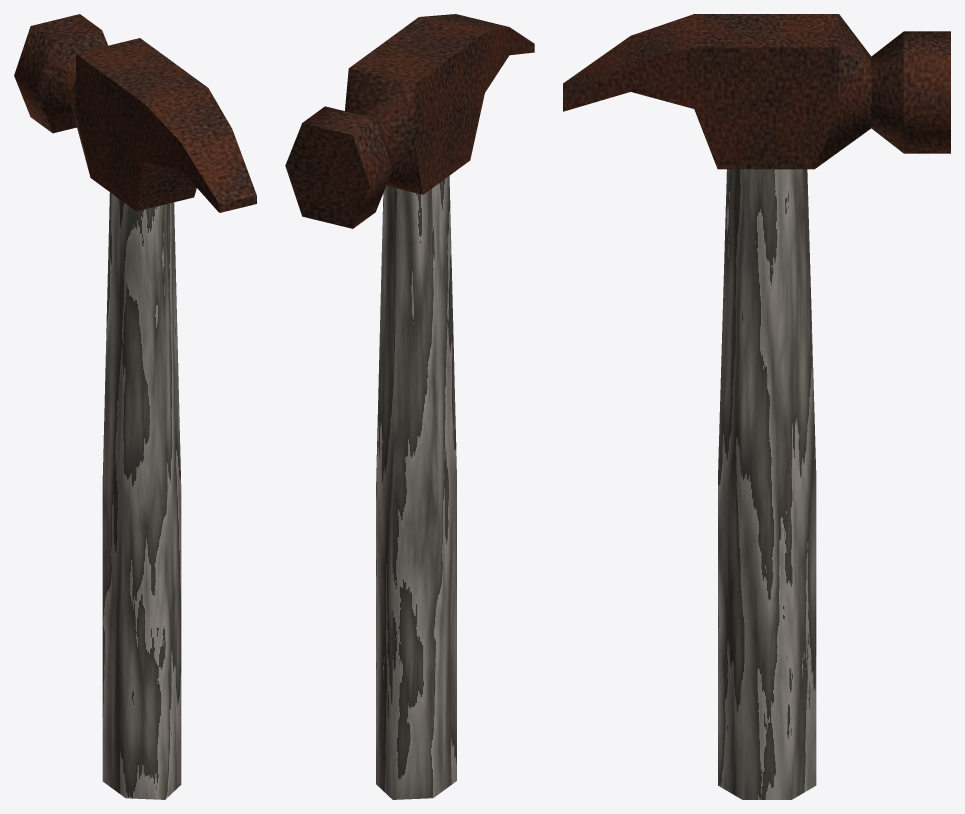
The model's file is hammer.obj.
The picture shows the model from 3 angles, left to right: view 1: azimuth 30°, elevation 25°; view 2: azimuth 150°, elevation 25°; view 3: azimuth 270°, elevation 25°; orthographic projection. The views are drawn at different scales.
Parts seen in each view (by area): view 1: ClawHammer_Cylinder; view 2: ClawHammer_Cylinder; view 3: ClawHammer_Cylinder.
Part boxes in pixels (box(x1,y1,x2,y2)): ClawHammer_Cylinder: box(14, 14, 256, 799); ClawHammer_Cylinder: box(285, 14, 534, 799); ClawHammer_Cylinder: box(563, 14, 950, 799).
Bounding box in the file's own units: 0.3692 × 3.05 × 1.42.
2 materials, 2 textured.
